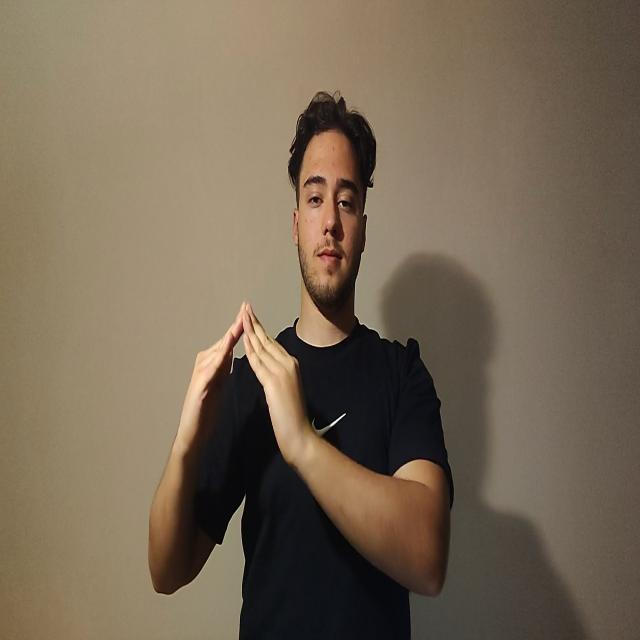house: (175, 296, 306, 466)
